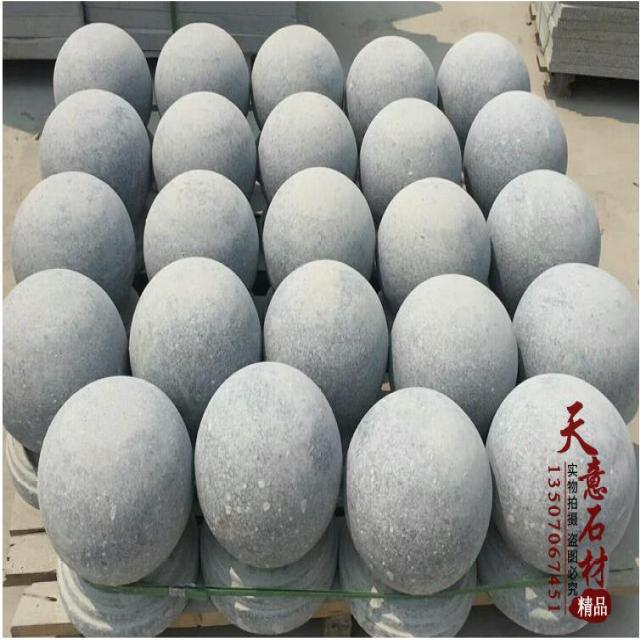spherical_roadblock: (189, 356, 347, 639), (479, 373, 638, 639), (35, 373, 194, 639), (344, 385, 492, 639), (3, 265, 126, 508), (132, 256, 266, 421), (258, 252, 390, 412), (509, 258, 639, 420), (392, 258, 516, 426), (486, 164, 608, 308), (10, 168, 134, 305), (133, 167, 261, 285), (378, 174, 493, 299), (259, 163, 373, 280), (34, 84, 148, 198), (357, 86, 471, 190), (250, 85, 358, 181), (464, 93, 568, 192), (146, 17, 252, 112), (146, 90, 253, 184), (344, 30, 439, 132), (52, 20, 146, 109), (252, 16, 341, 107), (439, 29, 529, 114)
